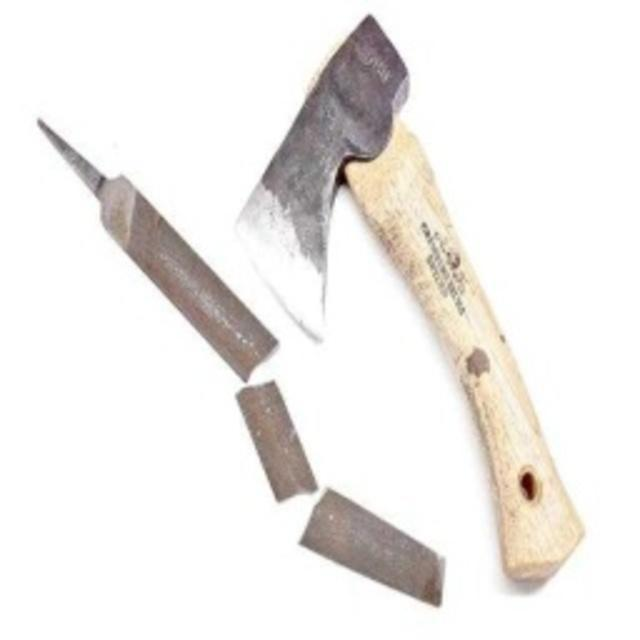ax: (226, 10, 604, 597)
